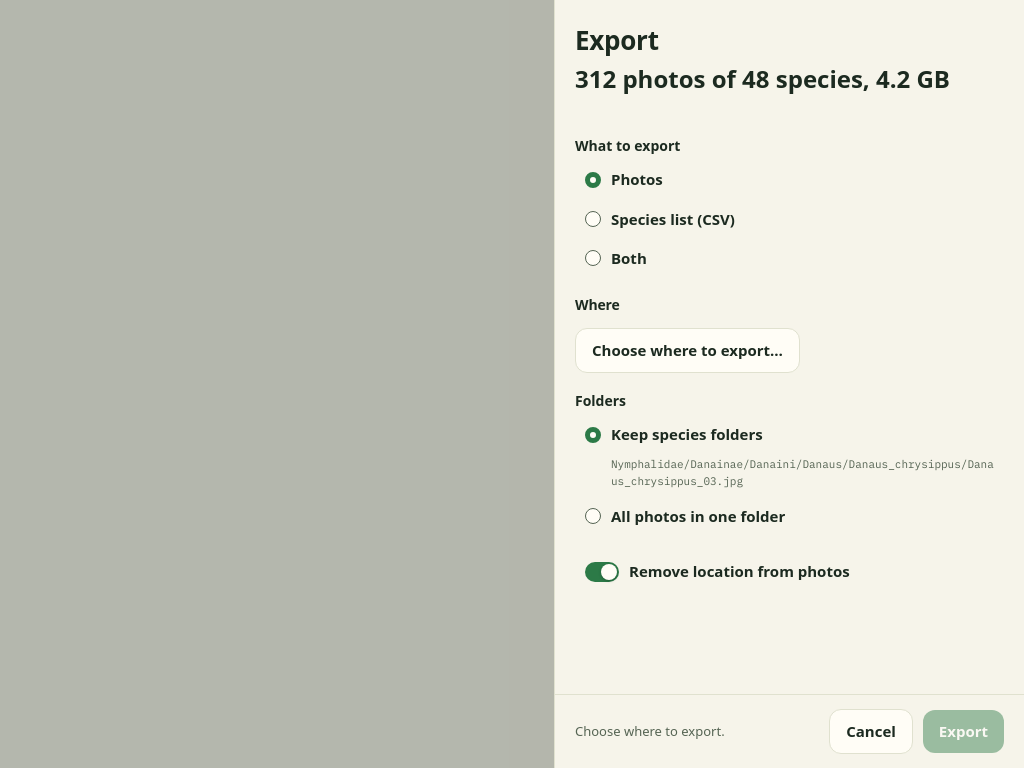
Test: choices that do not apply are hidden: a species list has no folders or location, photos have no places
This screenshot has width=1024, height=768.
What coordinates should you click on to do the following:
click the radio button labelled "Species list (CSV)"
I would click on:
 (593, 219)
Its box is x1=585 y1=211 x2=601 y2=227.
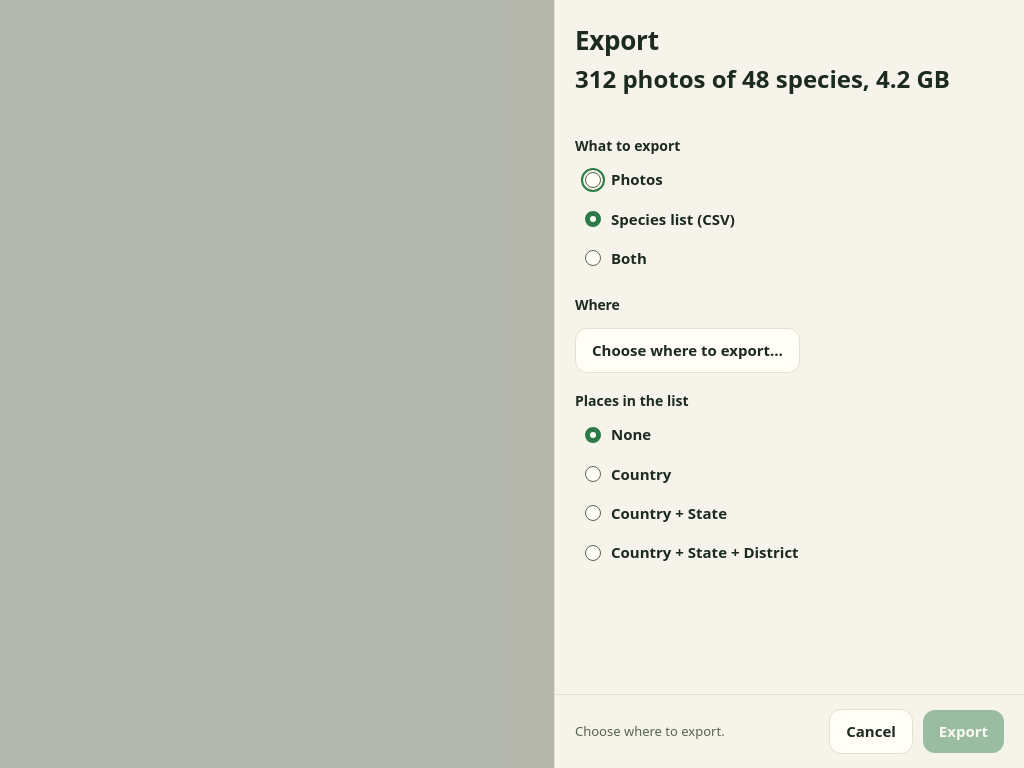
expect the text "Folders" is gone: met
expect the switch is gone: met
What coordinates should you click on to do the following:
click the radio button labelled "Both"
I would click on:
 (593, 258)
Its box is x1=585 y1=250 x2=601 y2=266.
(page scrolled)
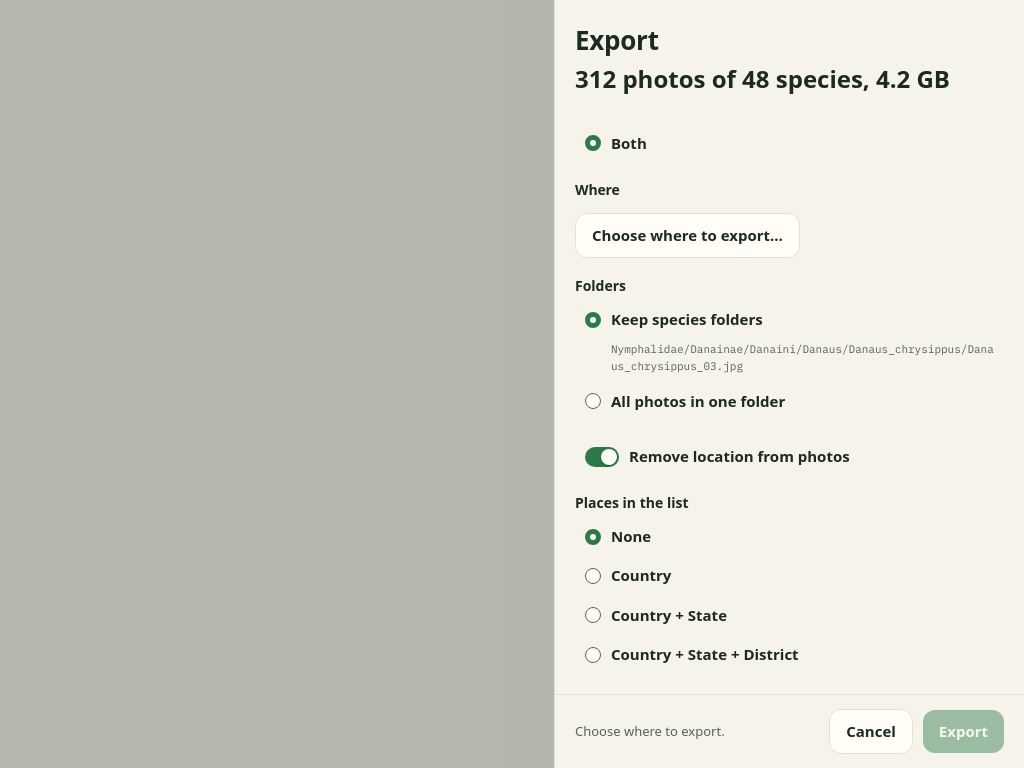
expect the element "Places in the list" is shown: met, box x1=575 y1=493 x2=799 y2=664
expect the element "Folders" is shown: met, box x1=575 y1=276 x2=1004 y2=420
expect the switch labelled "Remove location from photos" is shown: met, box x1=575 y1=438 x2=1004 y2=475
